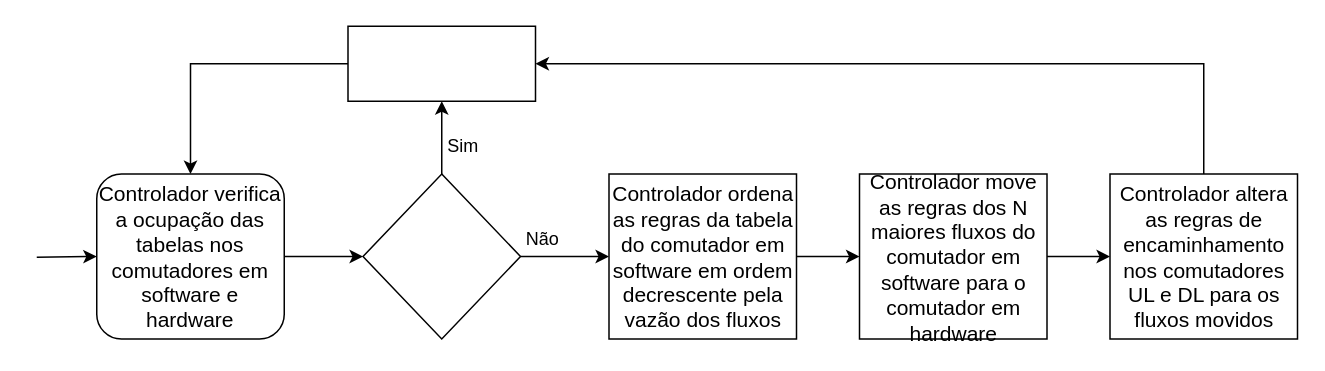
Some shapes in this 1325 by 371 pixel diagram are drawn without their labels. Here are the shapes that lost their labels. From the top down, the centre of each, then its label:
At (441,63): "Espera (x segundos)".
At (441,255): "Tabela do comutador em hardware cheia?".
